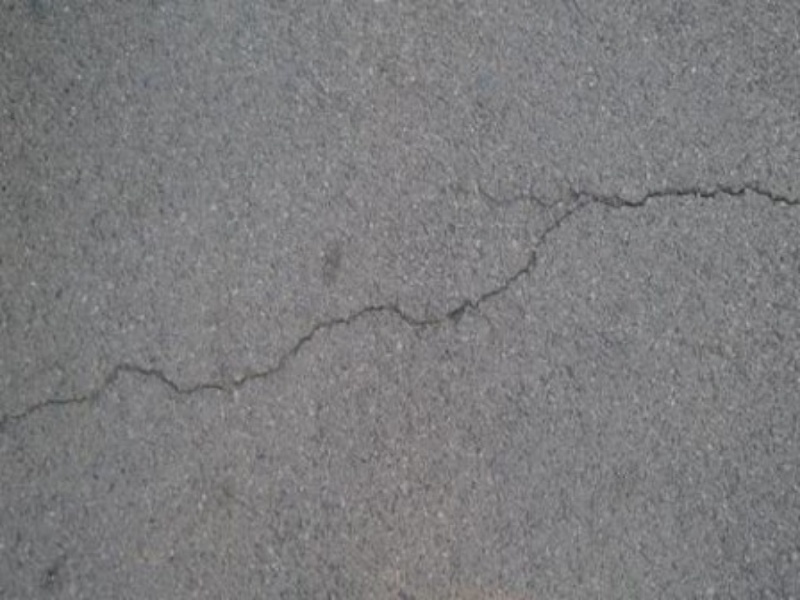crack: (13, 173, 796, 456)
